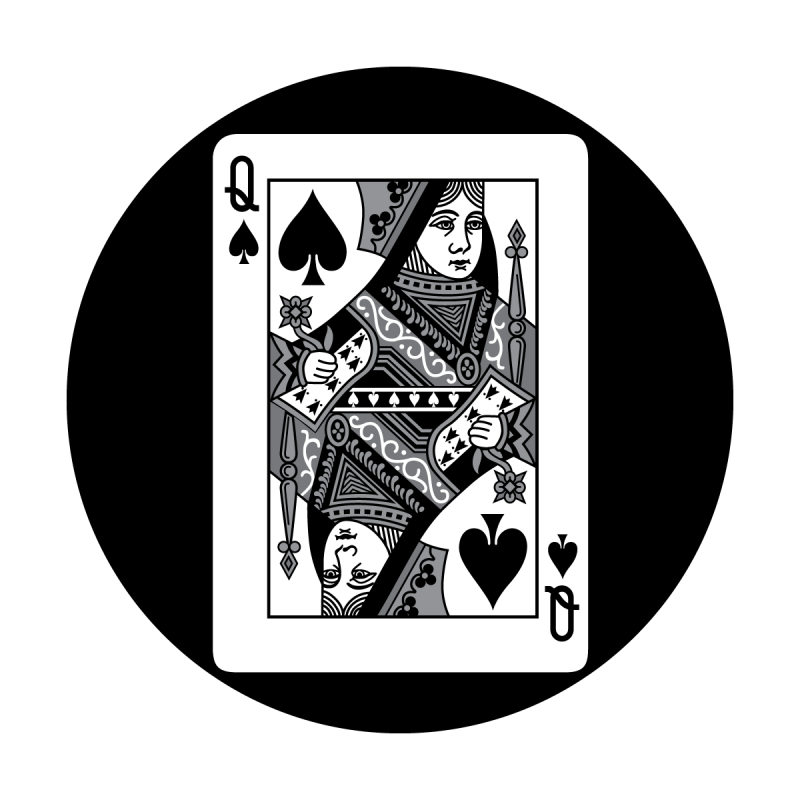queen of spades: (215, 135, 588, 675)
